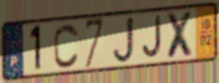1: (28, 23, 43, 74)
7: (84, 17, 106, 70)
C: (52, 22, 80, 71)
J: (111, 15, 136, 66), (141, 14, 164, 61)
X: (165, 10, 196, 61)
